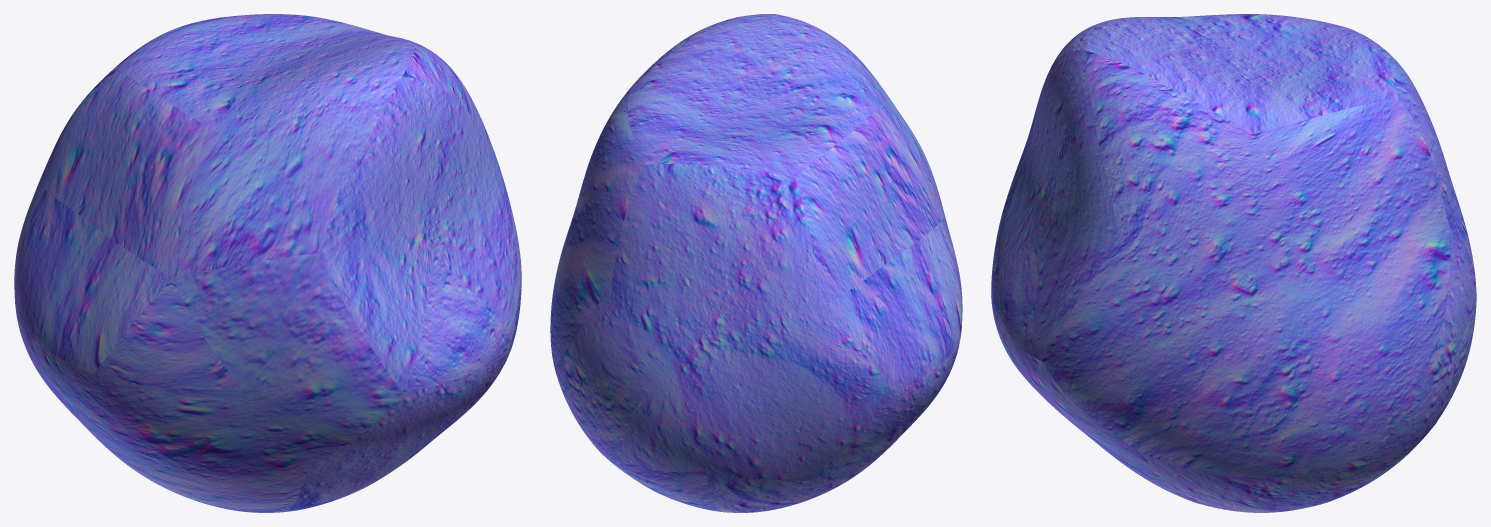
The model's file is bigasteroid3_LOD0.fbx.
3 renders of one model, left to right at view 1: azimuth 30°, elevation 25°; view 2: azimuth 150°, elevation 25°; view 3: azimuth 270°, elevation 25°, orthographic. The views are drawn at different scales.
Parts seen in each view (by area): view 1: Icosphere; view 2: Icosphere; view 3: Icosphere.
Part boxes in pixels (x1,y1,x2,y2): Icosphere: (14,14,521,512); Icosphere: (550,14,962,512); Icosphere: (991,14,1476,512).
Bounding box in the file's own units: 202 × 224 × 209.
